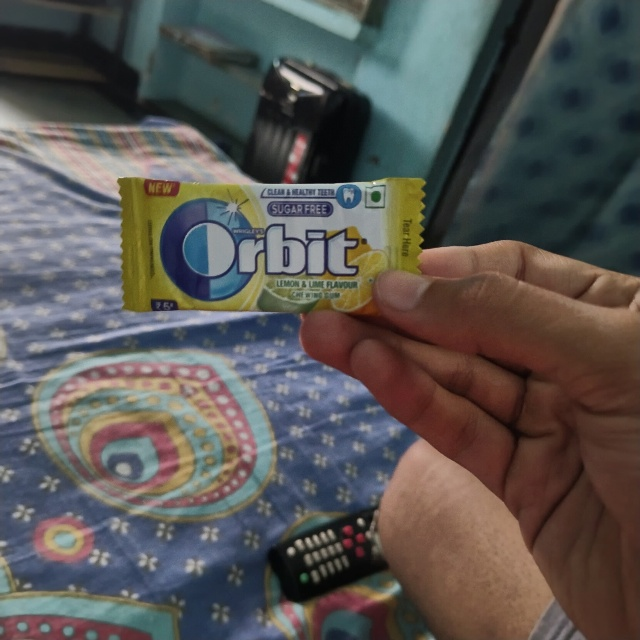Orbit: (110, 178, 427, 311)
